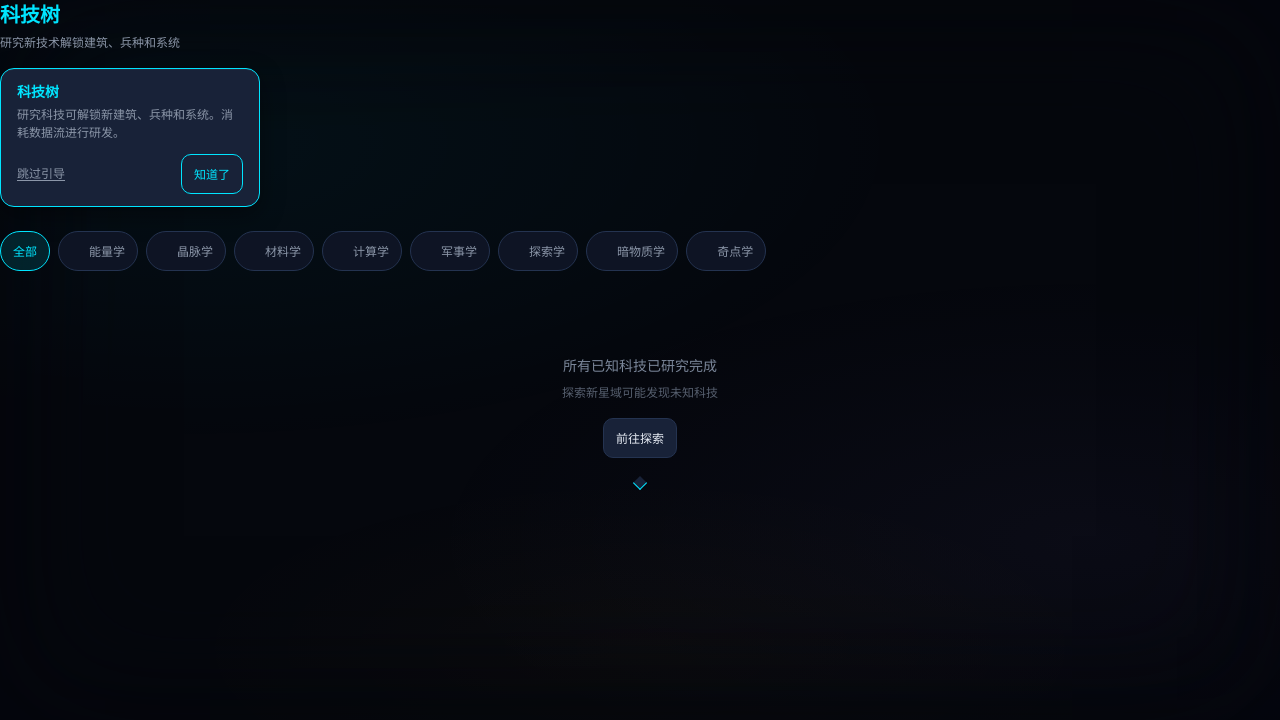
Scenario: TechView — 研究流程 › 分支筛选下空态写分支口径结论（v0.97）
The image size is (1280, 720).
Click the button with class "branch-tab" showing "能量学" at [98, 251], box [58,231,138,271]
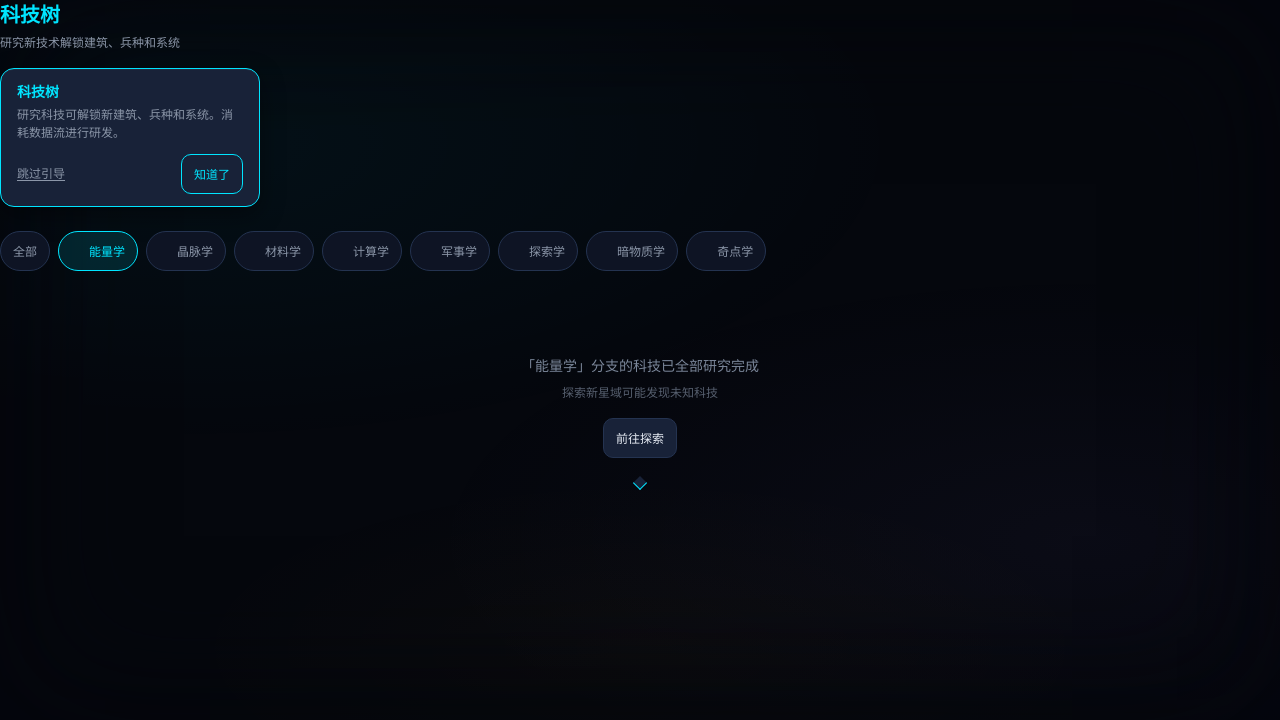
Expected: the element with class "empty-state" is shown, [521,315,759,458]
Expected: the text "分支的科技已全部研究完成" is shown, [521,356,759,375]
Expected: the text "所有已知科技已研究完成" is gone
